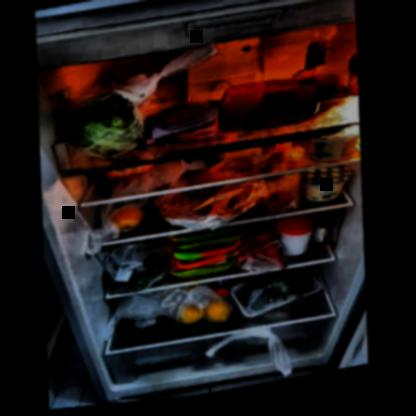broccoli: (243, 272, 315, 316)
chicken: (170, 231, 245, 284)
lemon: (114, 207, 149, 235), (182, 307, 208, 329), (209, 307, 235, 329)
lettuce: (71, 97, 147, 160)
salami: (156, 105, 207, 131)
tomato: (265, 194, 298, 220)
yoghurt: (301, 170, 355, 211), (312, 136, 361, 170)
